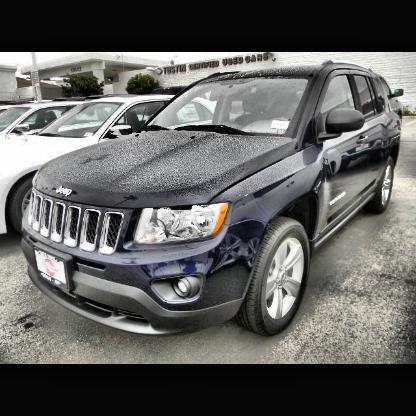Jeep Compass SUV 2012: (21, 64, 404, 342)
